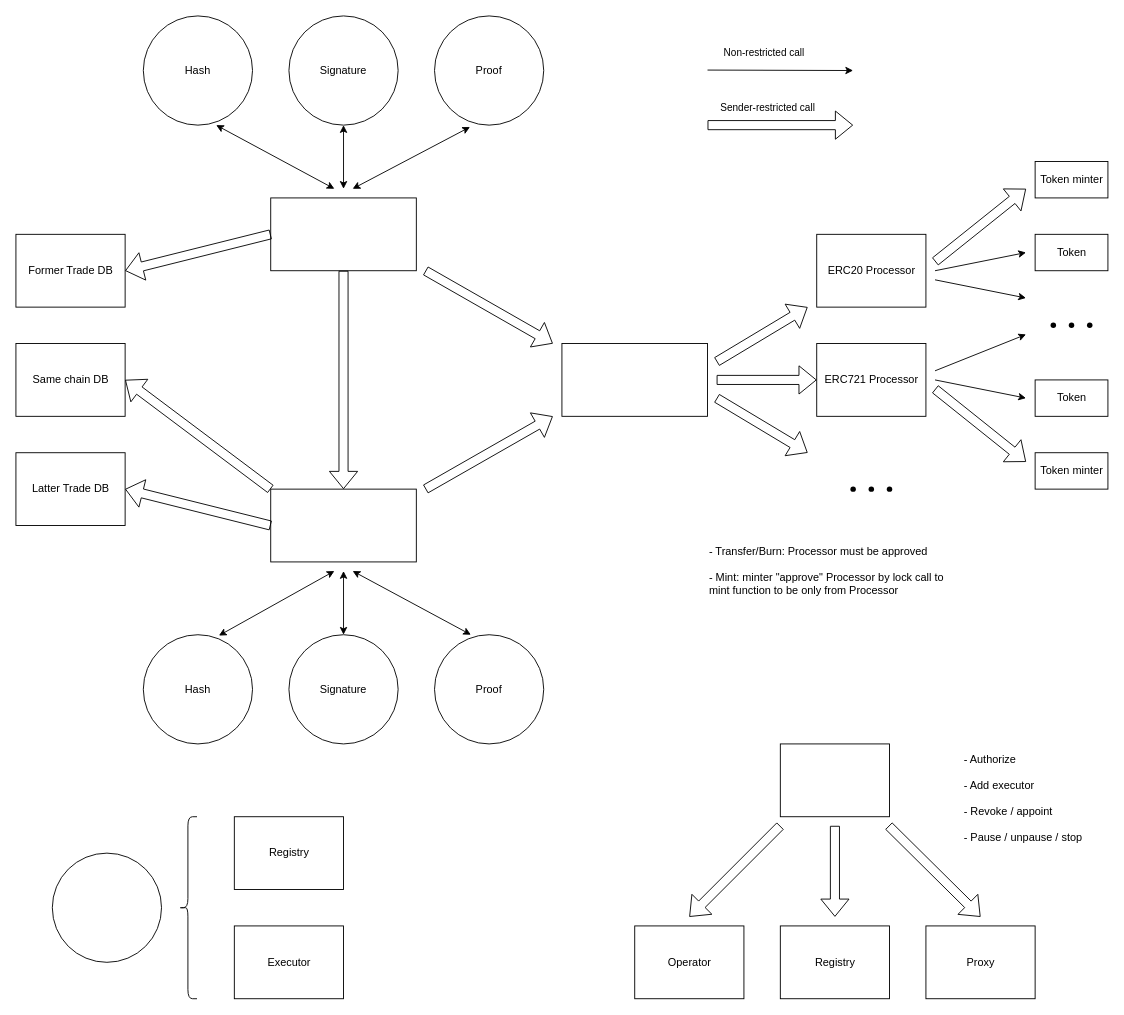
The diagram is 1124 pixels wide and 1015 high, and some of its shapes have lost their labels. The shapes that lost their labels are listed below. From the top down, each one's centre as x and y in pixels, then its label:
At [343,234]: "FormerTradeOperator".
At [634,379]: "ProcessorProxy".
At [343,525]: "LatterTradeOperator".
At [834,780]: "Admin".
At [106,907]: "Hash / Signature / Proof".
